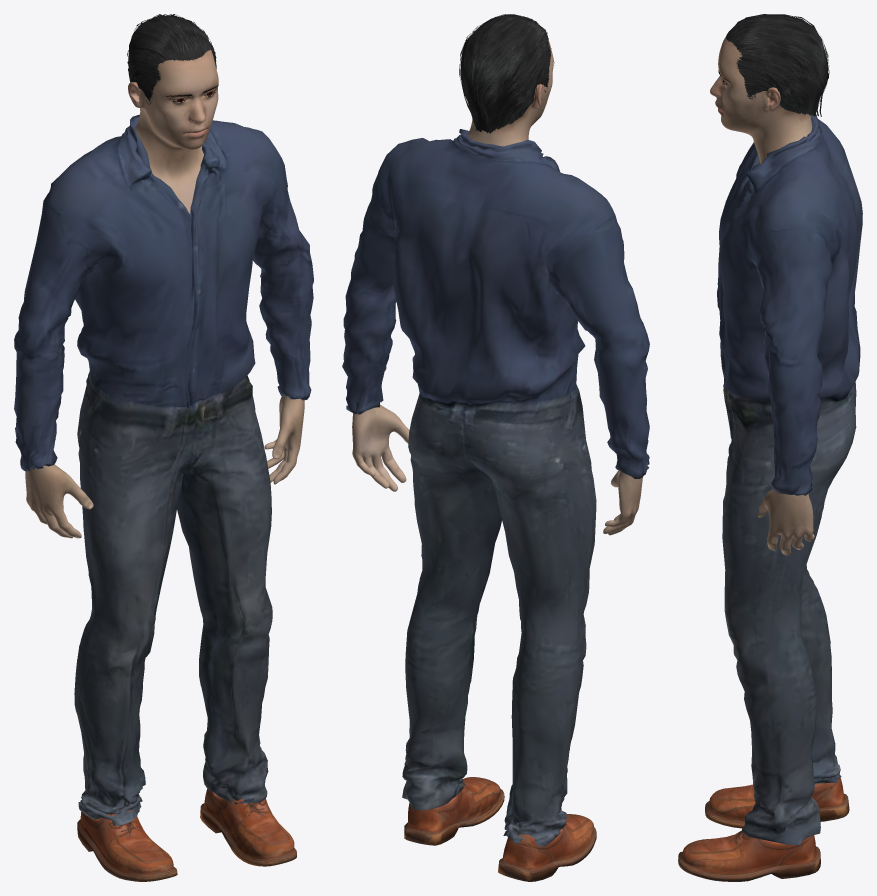
The model's file is person-man.glb.
3 renders of one model, left to right at view 1: azimuth 30°, elevation 25°; view 2: azimuth 150°, elevation 25°; view 3: azimuth 270°, elevation 25°, orthographic.
Parts seen in each view (by area): view 1: male_casualsuit01, Avery | anatomical body, shoes01, short04; view 2: male_casualsuit01, short04, shoes01, Avery | anatomical body; view 3: male_casualsuit01, shoes01, Avery | anatomical body, short04.
Part boxes in pixels (<box>): male_casualsuit01: <box>14,114,313,825</box>; Avery | anatomical body: <box>25,49,304,538</box>; shoes01: <box>77,786,296,881</box>; short04: <box>127,14,216,105</box>; male_casualsuit01: <box>342,129,649,846</box>; short04: <box>459,14,551,134</box>; shoes01: <box>404,777,596,881</box>; Avery | anatomical body: <box>352,40,642,535</box>; male_casualsuit01: <box>717,115,862,844</box>; shoes01: <box>678,778,849,881</box>; Avery | anatomical body: <box>710,37,814,555</box>; short04: <box>726,14,829,116</box>.
Bounding box in the file's own units: 0.6583 × 1.76 × 0.359.
Materials: 9 (9 with a texture image).
